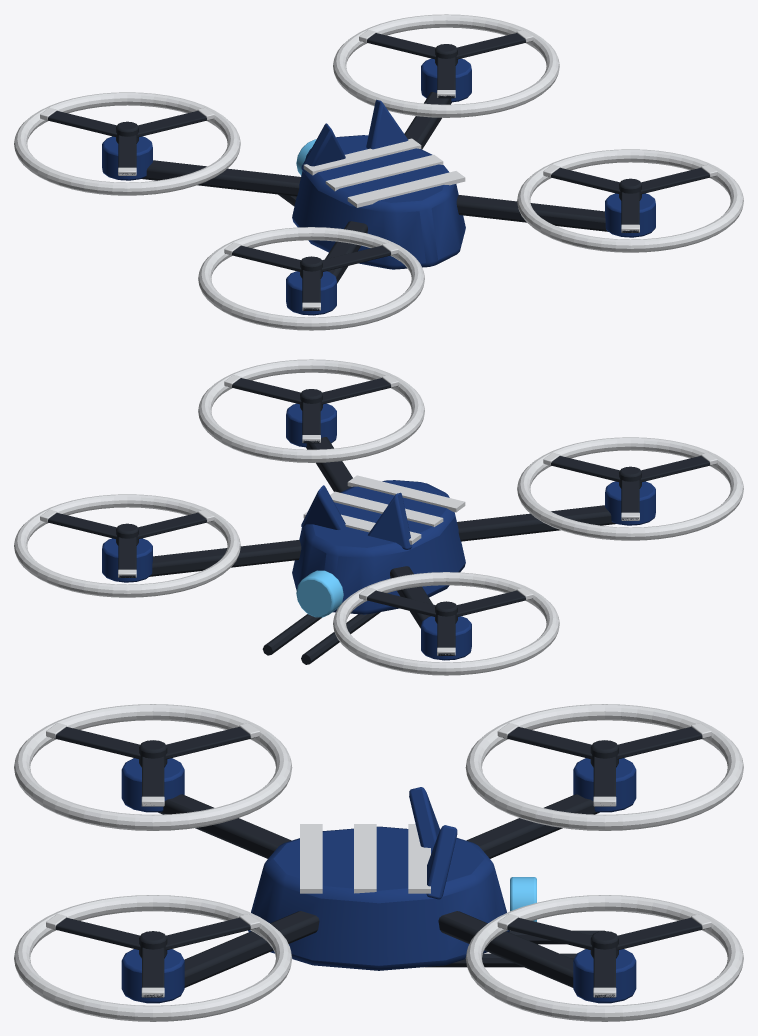
File: shibas_wespe.glb
3 views of the same model, one above another, from view 1: azimuth 30°, elevation 25°; view 2: azimuth 150°, elevation 25°; view 3: azimuth 270°, elevation 25° (orthographic). The views are drawn at different scales.
Parts seen in each view (by area): view 1: core, guard_3, guard_1, guard_2, guard_0, arm_2, rotor_r0, rotor_r1, rotor_r2, rotor_r3, arm_1, stripe_0 (+10 smaller); view 2: core, guard_2, guard_1, guard_3, guard_0, arm_0, rotor_r2, rotor_r3, rotor_r0, rotor_r1, arm_3, sensor (+12 smaller); view 3: core, guard_0, guard_2, guard_1, guard_3, rotor_r1, rotor_r3, rotor_r0, rotor_r2, arm_0, arm_2, arm_1 (+12 smaller).
Boxes of the visible parts, x1=… form: core: x1=292, y1=135, x2=465, y2=269; guard_3: x1=198, y1=227, x2=424, y2=330; guard_1: x1=14, y1=92, x2=240, y2=195; guard_2: x1=517, y1=149, x2=743, y2=252; guard_0: x1=333, y1=14, x2=559, y2=117; arm_2: x1=456, y1=195, x2=608, y2=231; rotor_r0: x1=359, y1=30, x2=533, y2=98; rotor_r1: x1=40, y1=107, x2=214, y2=175; rotor_r2: x1=543, y1=164, x2=717, y2=232; rotor_r3: x1=224, y1=242, x2=398, y2=310; arm_1: x1=141, y1=160, x2=300, y2=196; stripe_0: x1=347, y1=171, x2=465, y2=207; core: x1=292, y1=480, x2=465, y2=614; guard_2: x1=198, y1=359, x2=424, y2=462; guard_1: x1=333, y1=572, x2=559, y2=675; guard_3: x1=517, y1=437, x2=743, y2=540; guard_0: x1=14, y1=494, x2=240, y2=597; arm_0: x1=149, y1=540, x2=301, y2=576; rotor_r2: x1=224, y1=375, x2=398, y2=443; rotor_r3: x1=543, y1=452, x2=717, y2=520; rotor_r0: x1=40, y1=509, x2=214, y2=577; rotor_r1: x1=359, y1=587, x2=533, y2=655; arm_3: x1=457, y1=505, x2=616, y2=541; sensor: x1=296, y1=570, x2=343, y2=617; core: x1=248, y1=826, x2=509, y2=970; guard_0: x1=465, y1=895, x2=743, y2=1021; guard_2: x1=14, y1=895, x2=292, y2=1021; guard_1: x1=465, y1=704, x2=743, y2=830; guard_3: x1=14, y1=704, x2=292, y2=830; rotor_r1: x1=497, y1=723, x2=711, y2=806; rotor_r3: x1=46, y1=723, x2=260, y2=806; rotor_r0: x1=497, y1=914, x2=711, y2=997; rotor_r2: x1=46, y1=914, x2=260, y2=997; arm_0: x1=438, y1=911, x2=573, y2=987; arm_2: x1=184, y1=911, x2=319, y2=987; arm_1: x1=466, y1=794, x2=599, y2=858.
Size of the model in its own units: 1.62 by 0.3608 by 1.62.
